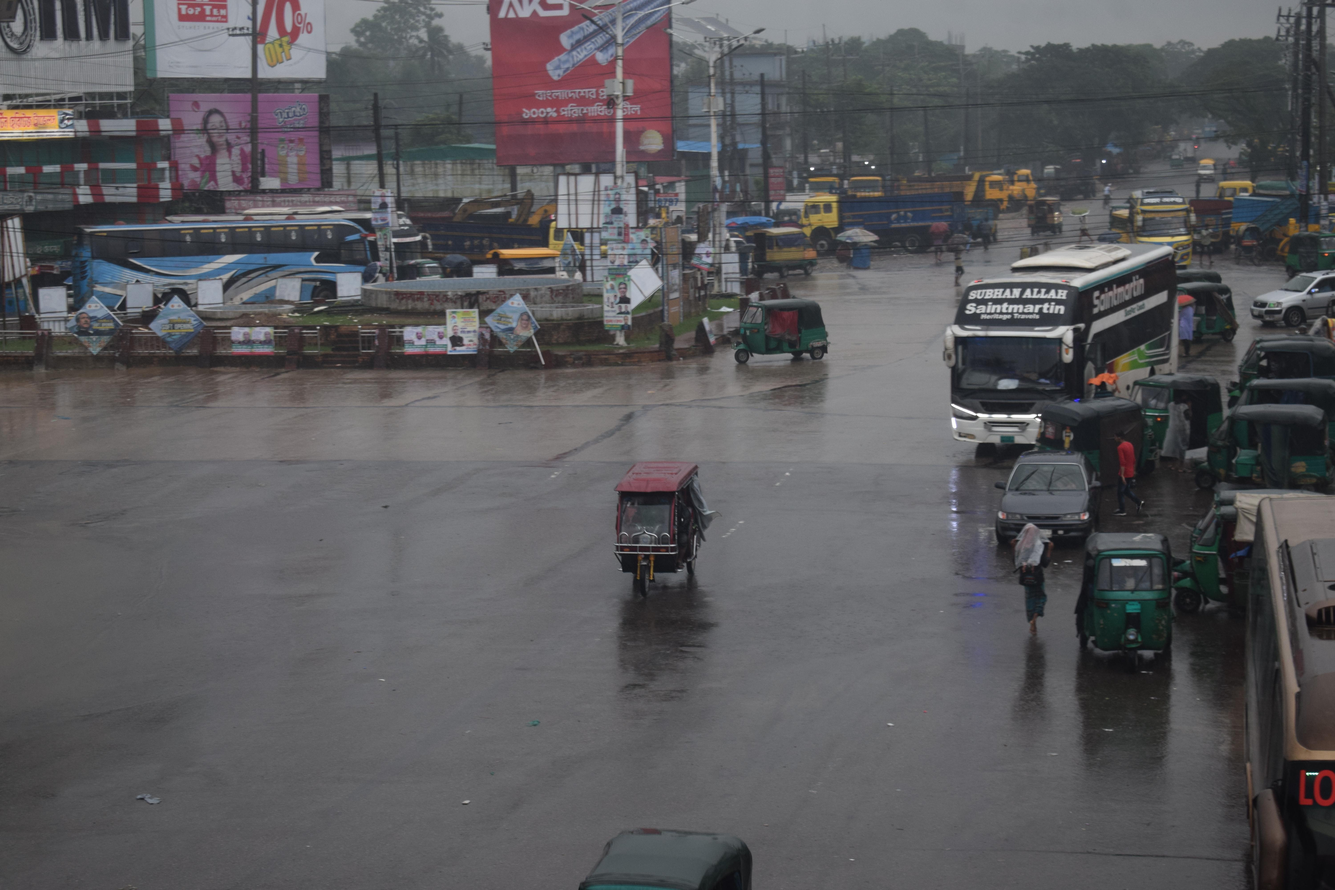Bus: (926, 221, 1207, 475), (38, 190, 420, 345), (1213, 462, 1335, 890)
Car: (549, 424, 743, 620), (979, 427, 1106, 570), (740, 199, 834, 291), (1239, 252, 1335, 336)
Truck: (786, 134, 986, 271), (1107, 157, 1211, 277)
